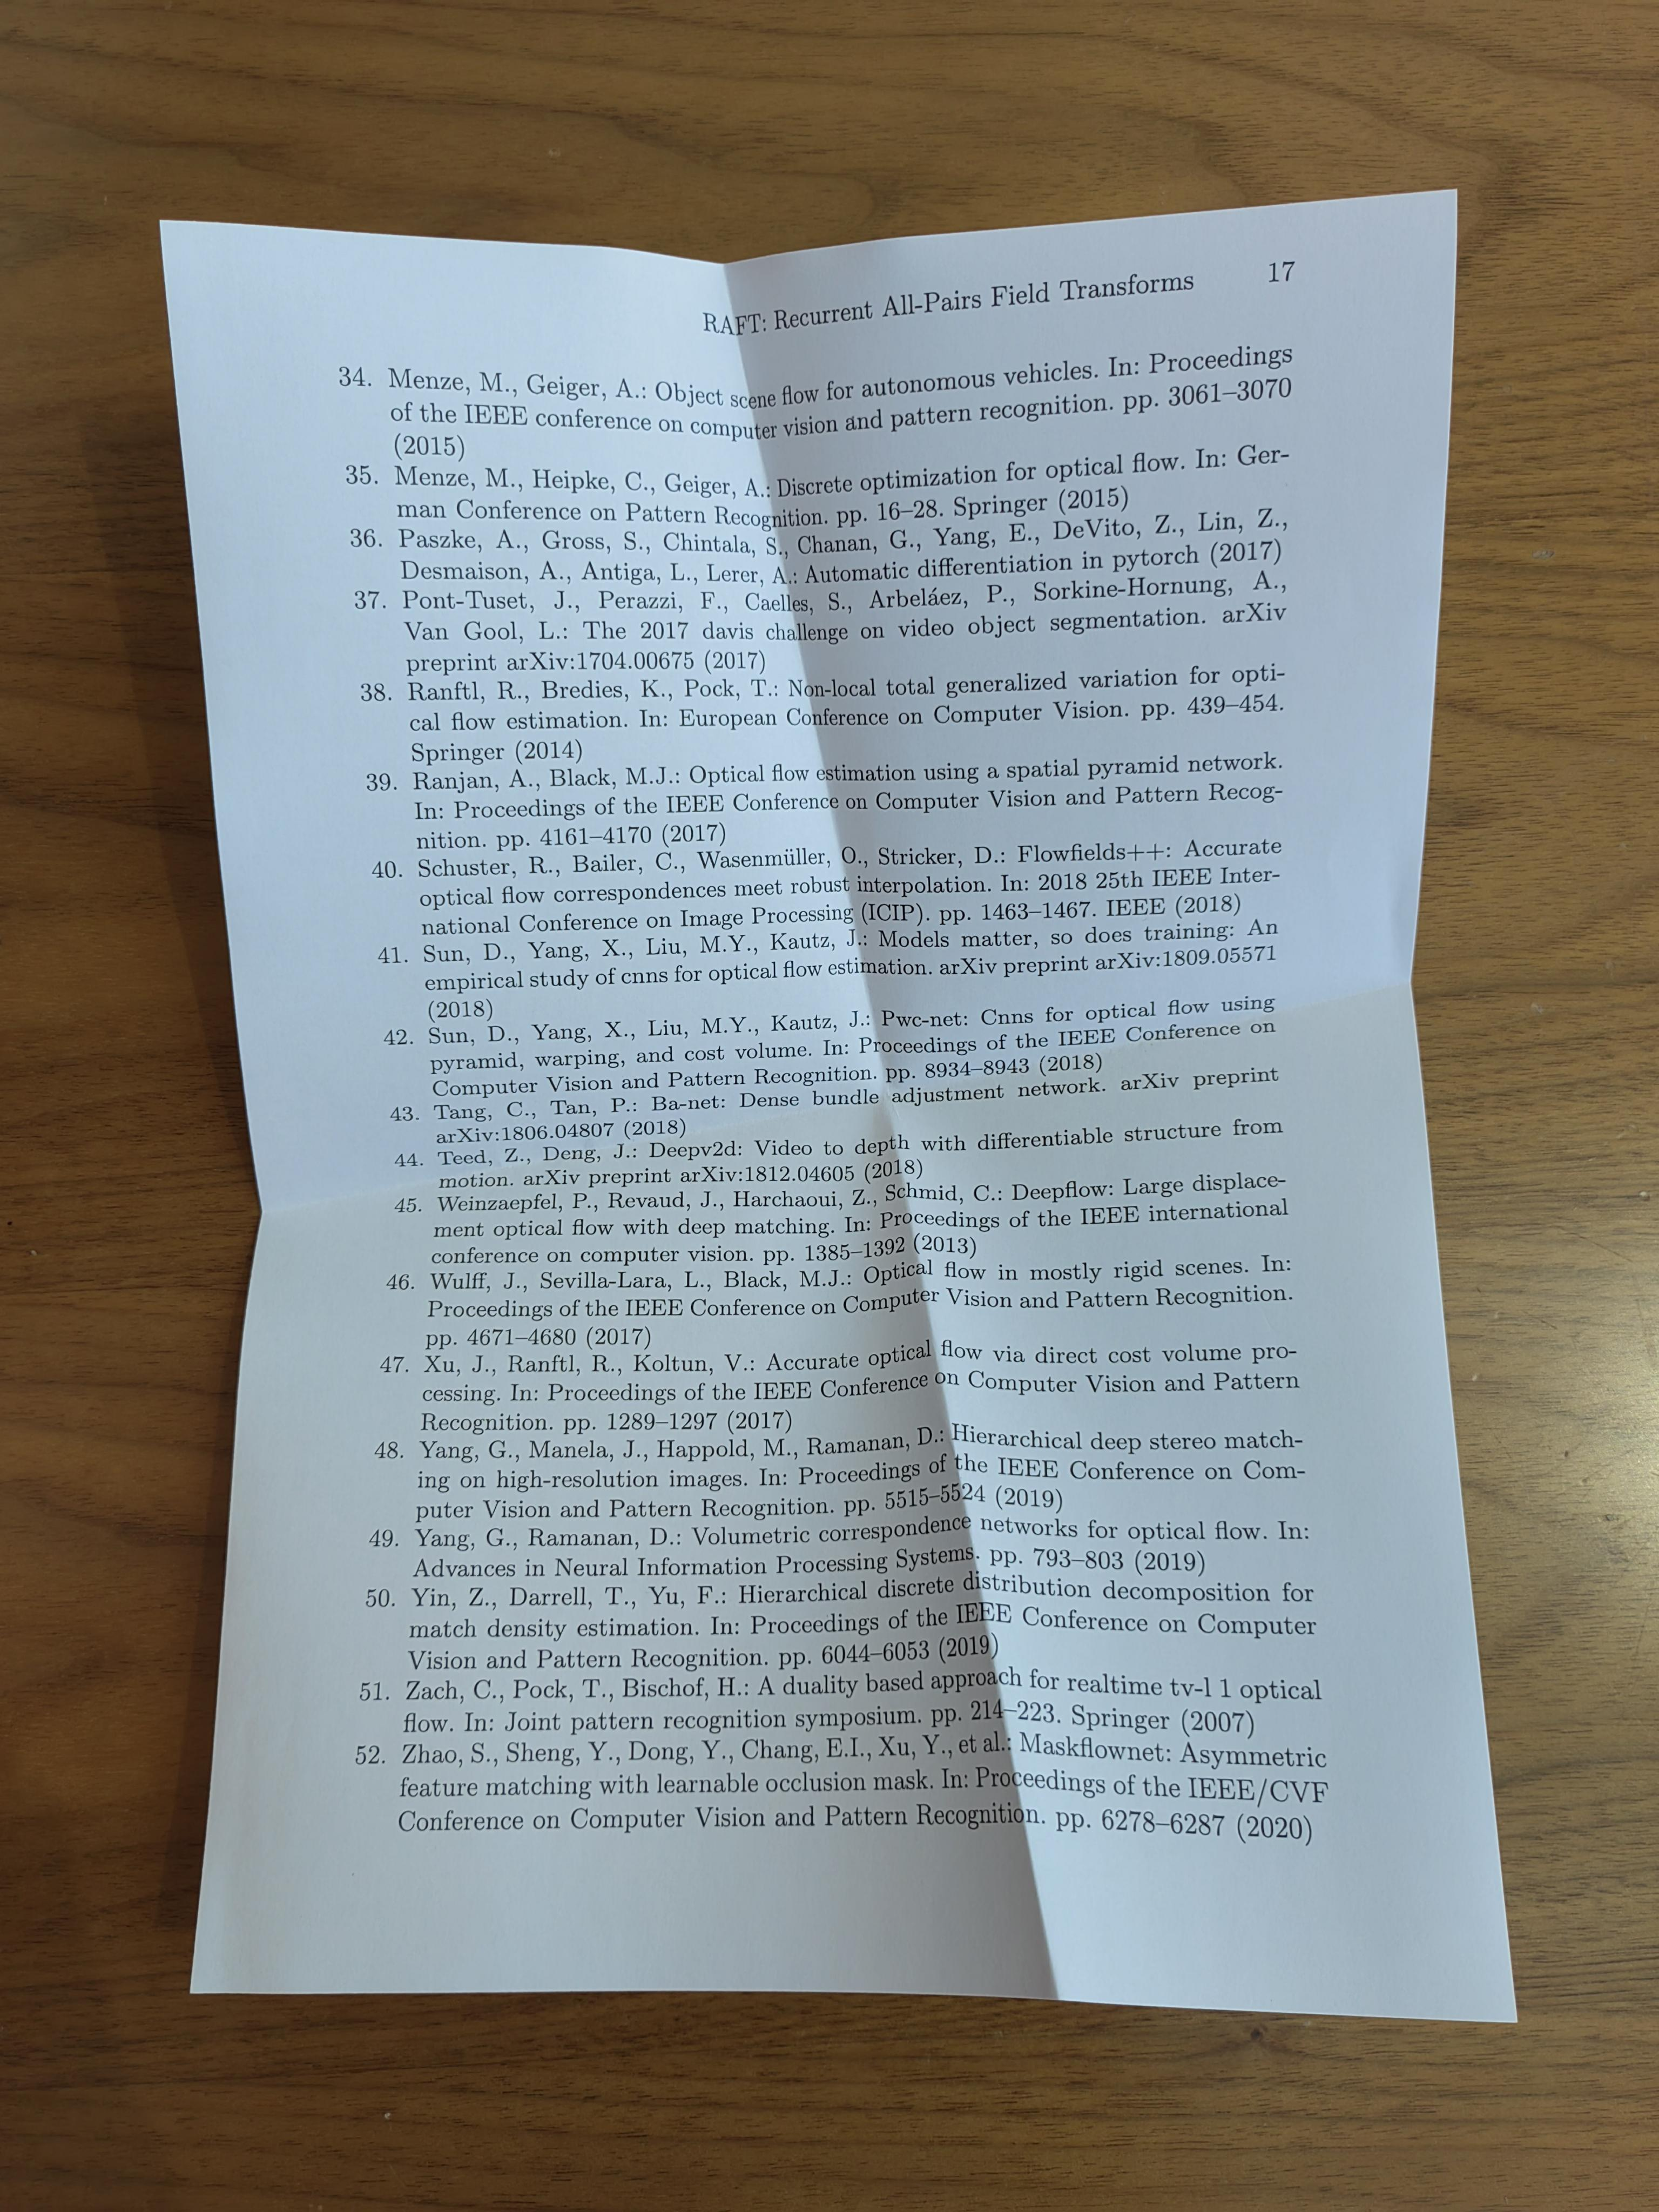paper: (49, 87, 1570, 2114)
